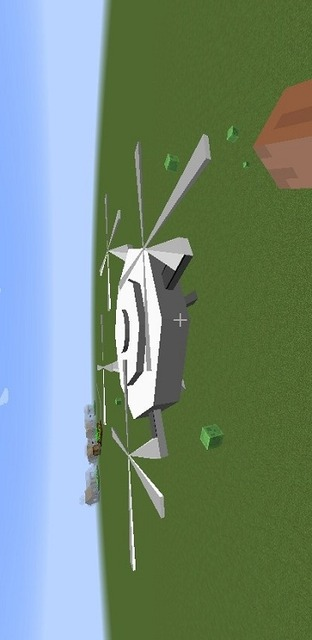drone: (95, 132, 211, 573)
